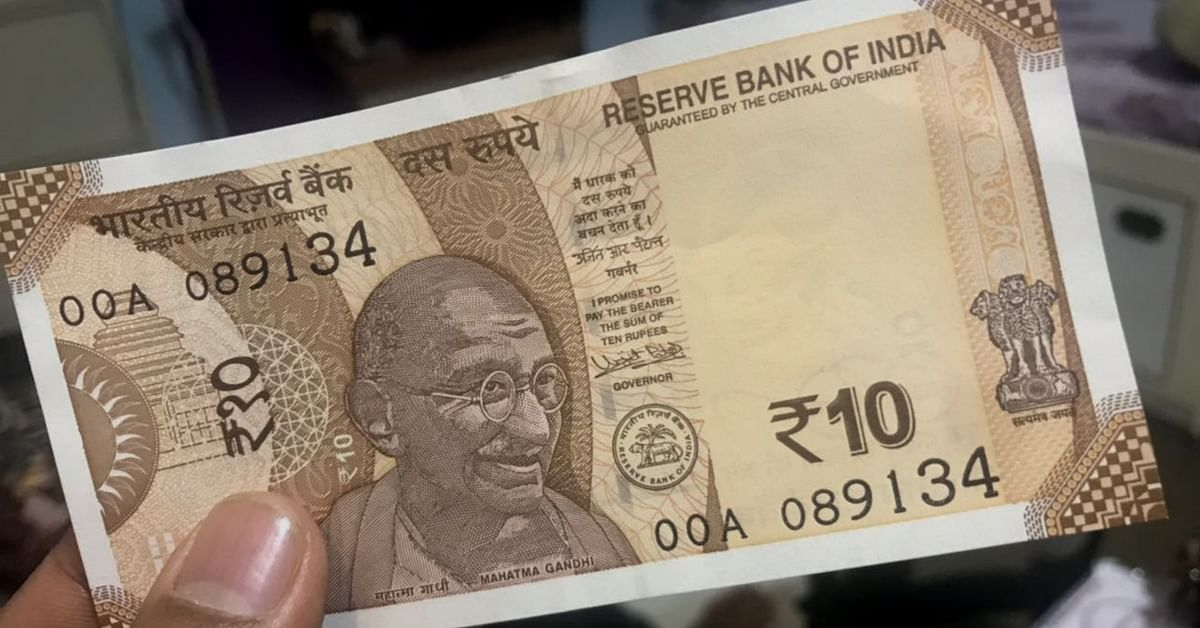ten_rupees_note: (2, 10, 1175, 624)
